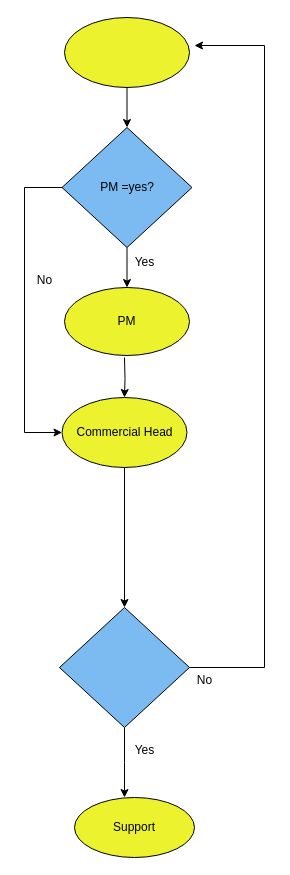
Image size: 290x875. Some labels were removed from this diagram. The shapes that lost their labels are listed below. From the top down, each one's centre as x and y in pixels, then its label:
(x=127, y=52): Account manager Innitiate
(x=124, y=667): Support=yes?
